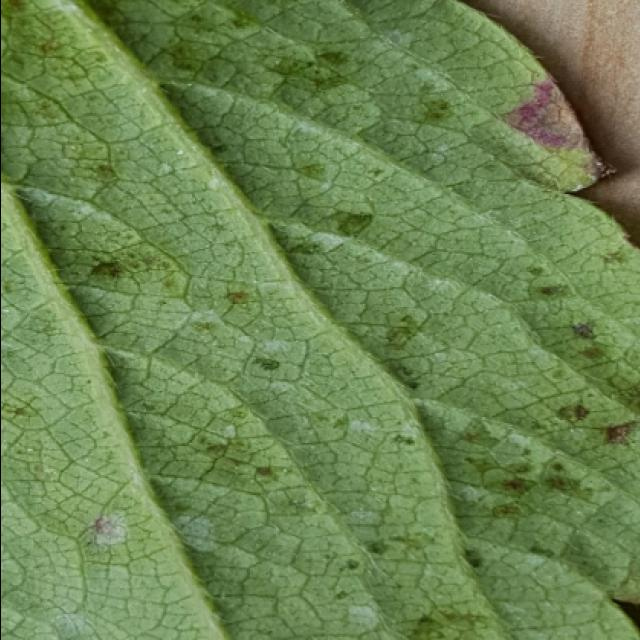Angular Leafspot: (2, 0, 640, 638)
